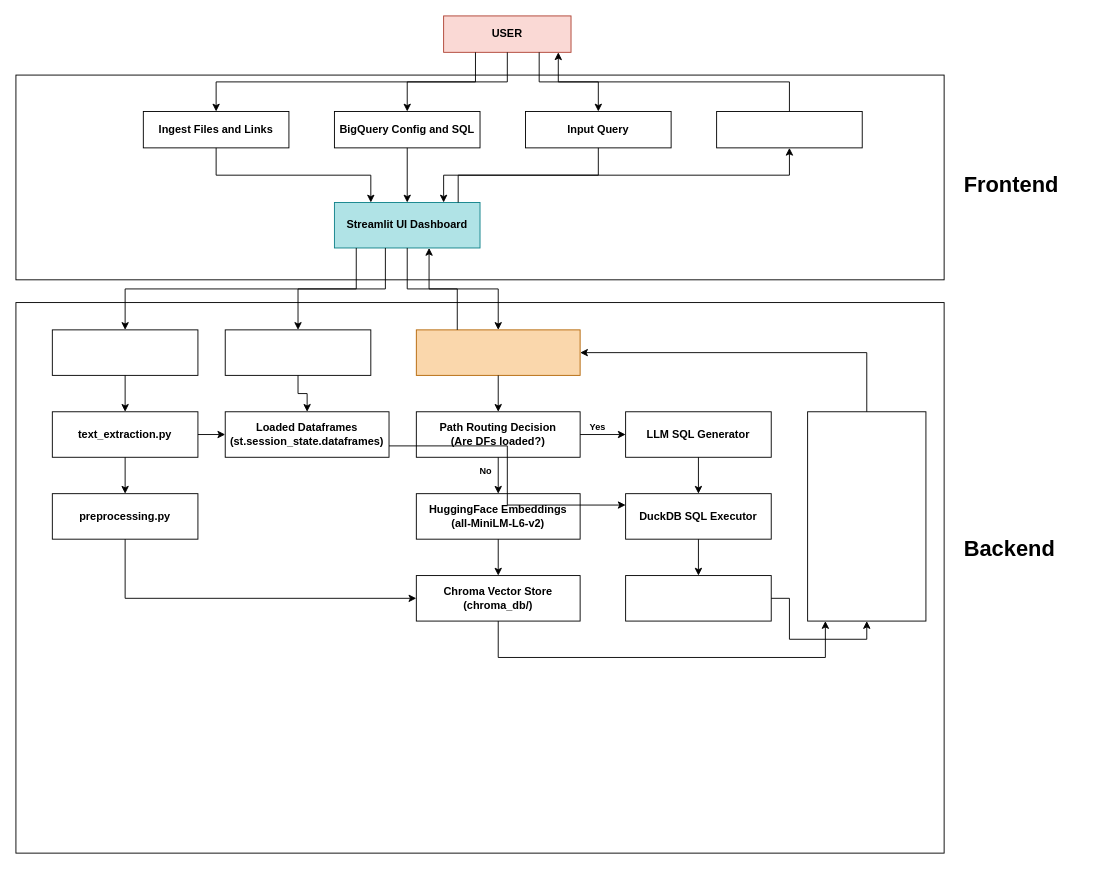
The diagram is 1097 pixels wide and 869 high, and some of its shapes have lost their labels. Each missing label, with the box of its shape:
bigquery_loader.py: (224, 329, 371, 375)
Contextual Response: (716, 111, 862, 148)
input_handler.py: (51, 329, 198, 375)
langchain_engine.py (Core Router): (415, 329, 580, 375)
LLM Response Builder (OpenRouter / OpenAI / Gemini): (807, 411, 926, 621)
SQL Self-Correction Loop: (625, 575, 771, 621)
